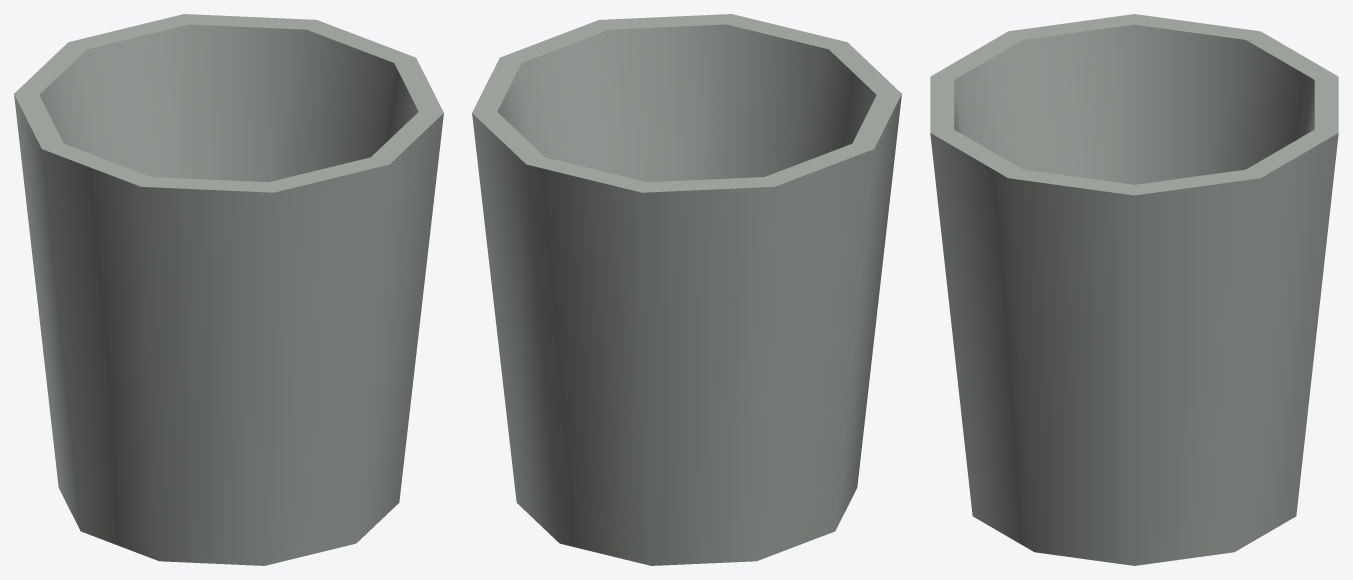
Rendered from Bicchiere_1.fbx.
The picture shows the model from 3 angles, left to right: view 1: azimuth 30°, elevation 25°; view 2: azimuth 150°, elevation 25°; view 3: azimuth 270°, elevation 25°; orthographic projection.
Visible parts, largest first — view 1: Bicchiere_Bianco; view 2: Bicchiere_Bianco; view 3: Bicchiere_Bianco.
Part boxes in pixels (bbox=[...]): Bicchiere_Bianco: bbox=[14, 14, 443, 565]; Bicchiere_Bianco: bbox=[472, 14, 901, 565]; Bicchiere_Bianco: bbox=[930, 14, 1338, 565].
Size of the model in its own units: 0.0815 by 0.0815 by 0.0775.
